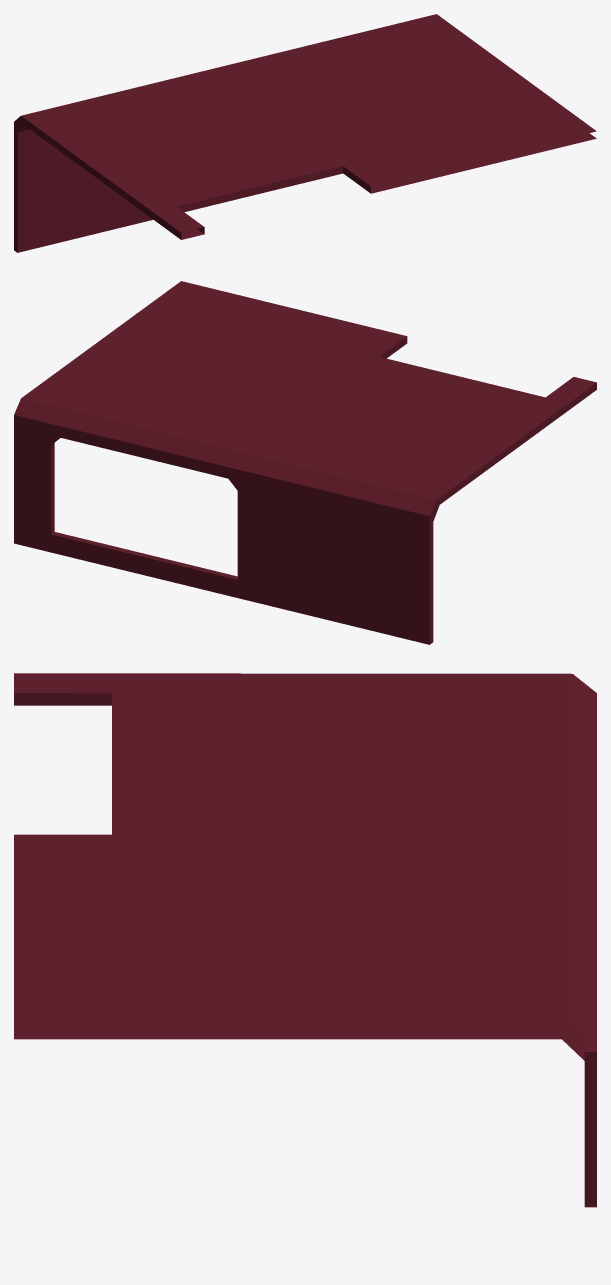
File: pc_case_extra_psu_cover.fbx
3 views of the same model, one above another, from view 1: azimuth 30°, elevation 25°; view 2: azimuth 150°, elevation 25°; view 3: azimuth 270°, elevation 25° (orthographic). The views are drawn at different scales.
Parts seen in each view (by area): view 1: pc_case_extra_psu_cover; view 2: pc_case_extra_psu_cover; view 3: pc_case_extra_psu_cover.
Boxes of the visible parts, box(x1,y1,x2,y2) form: pc_case_extra_psu_cover: box(14, 14, 596, 252); pc_case_extra_psu_cover: box(14, 281, 596, 644); pc_case_extra_psu_cover: box(14, 673, 596, 1207).
Bounding box in the file's own units: 28.56 × 9.19 × 19.9.
